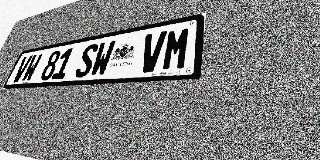1: (51, 47, 76, 80)
8: (39, 50, 63, 81)
M: (161, 26, 192, 71)
S: (73, 43, 100, 78)
V: (137, 31, 167, 73), (11, 55, 33, 83)
W: (89, 40, 116, 77), (20, 53, 43, 82)
